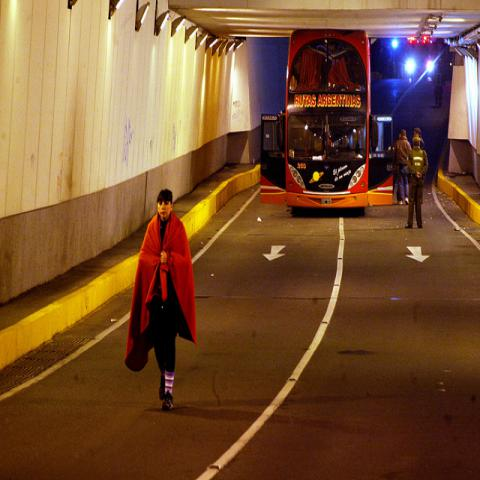bus: (285, 29, 371, 220)
